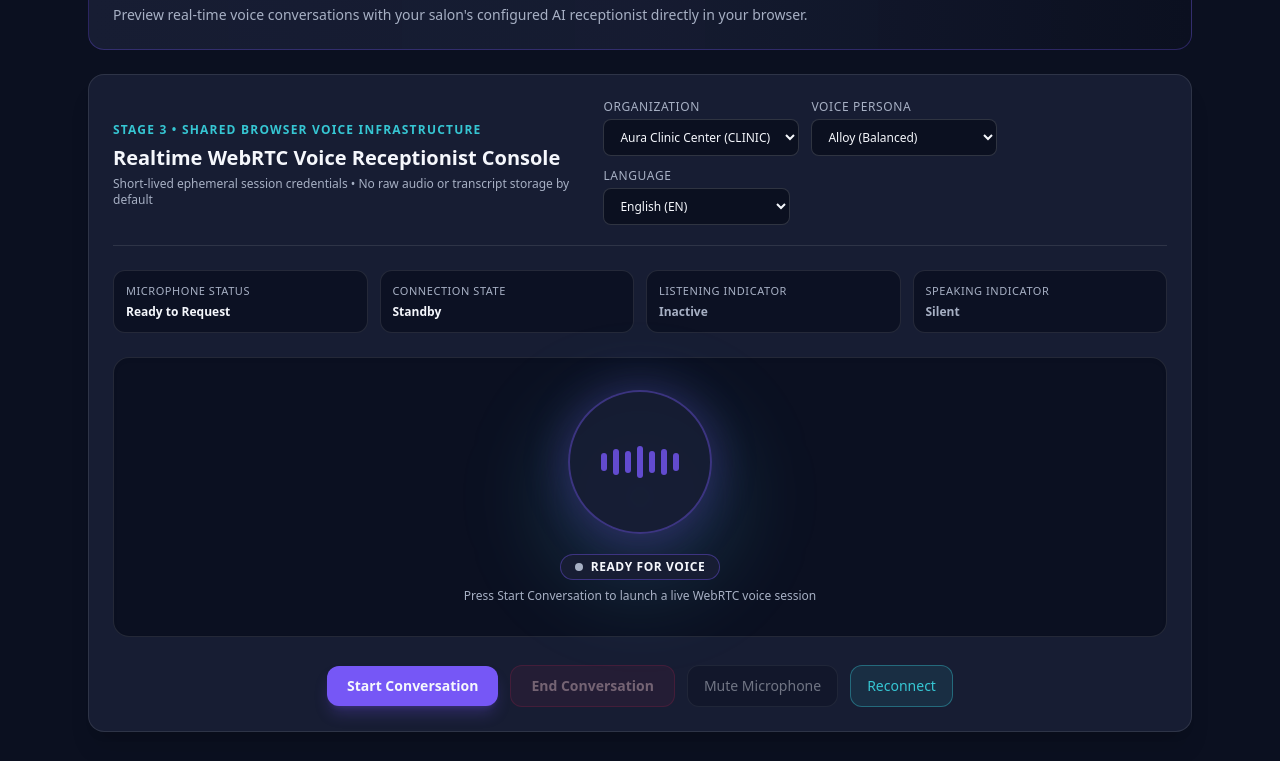
Stage 3 Shared Browser Voice Infrastructure › 6. handles ephemeral session expiration cleanly
Later steps or results of the test are not shown.
(page scrolled)
Click the button with test id "start-conversation-button" at (413, 686), box 327,666 -> 498,706
Wait 5500 ms
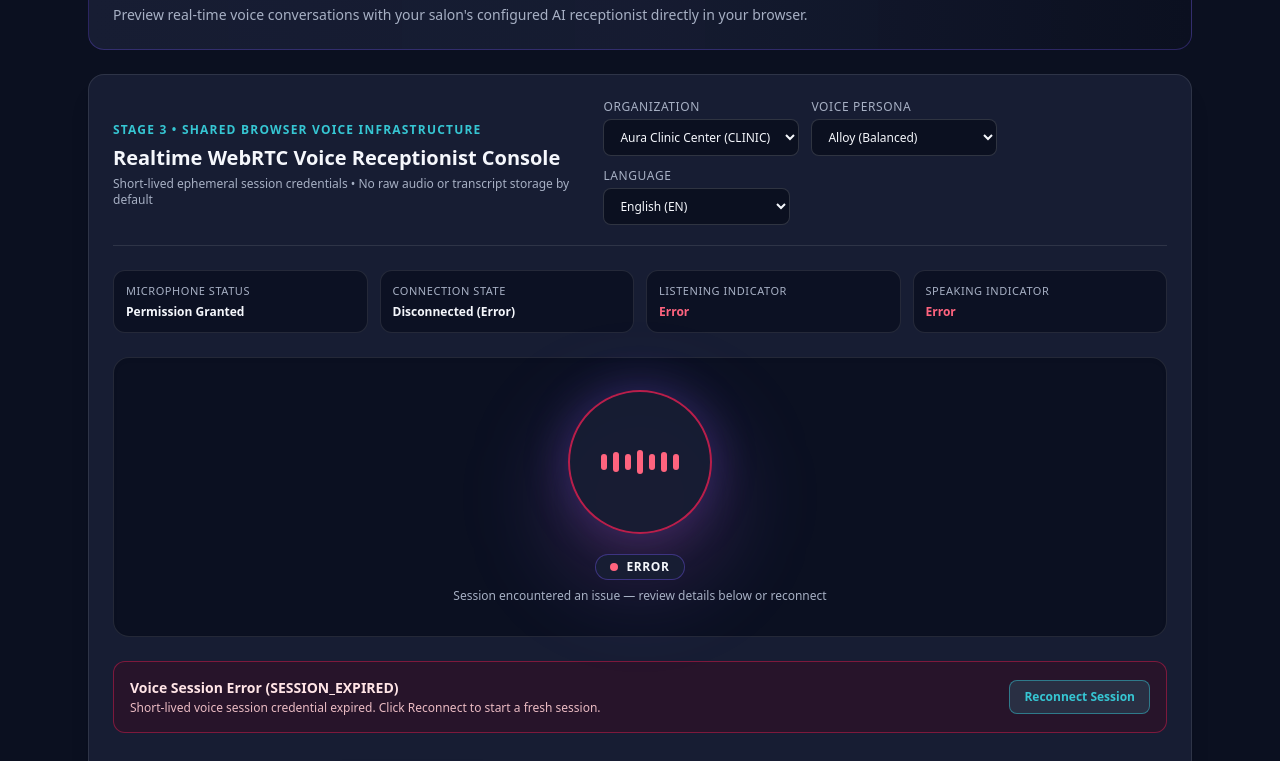
Expected: the message with test id "voice-error-banner" shows "SESSION_EXPIRED", 270,678 -> 394,696
